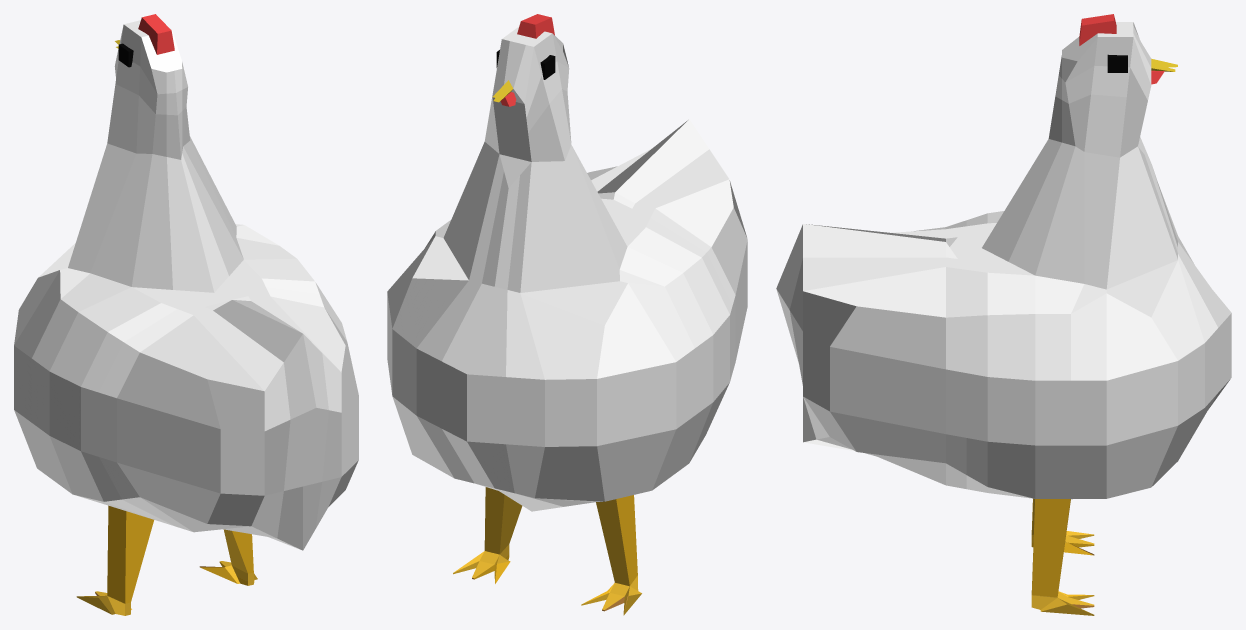
Rendered from chicken.gltf.
The picture shows the model from 3 angles, left to right: view 1: azimuth 30°, elevation 25°; view 2: azimuth 150°, elevation 25°; view 3: azimuth 270°, elevation 25°; orthographic projection. The views are drawn at different scales.
Parts seen in each view (by area): view 1: cuboid (×2); view 2: cuboid (×2); view 3: cuboid (×2).
Part boxes in pixels (x1,y1,x2,y2): cuboid (×2): [14, 14, 358, 615]; cuboid (×2): [387, 14, 747, 615]; cuboid (×2): [776, 14, 1231, 615].
Size of the model in its own units: 0.75 by 1.44 by 1.06.
Materials: 4 (4 with a texture image).
